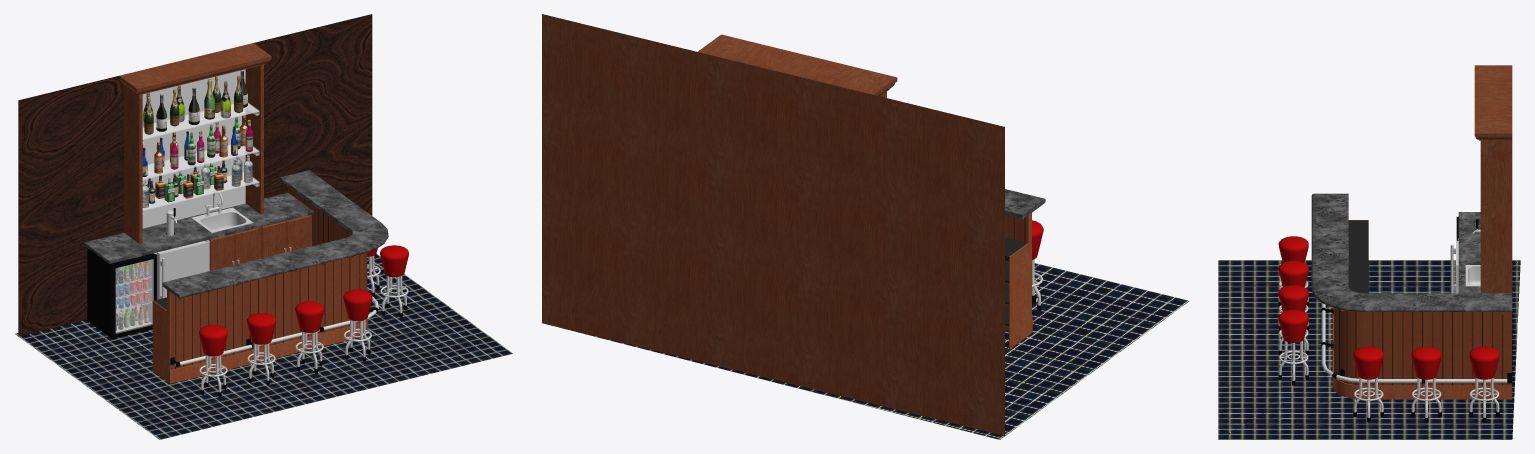
The model's file is bar_bar.glb.
The picture shows the model from 3 angles, left to right: view 1: azimuth 30°, elevation 25°; view 2: azimuth 150°, elevation 25°; view 3: azimuth 270°, elevation 25°; orthographic projection. The views are drawn at different scales.
Parts seen in each view (by area): view 1: Material3 (×7), Material2 (×19); view 2: Material2 (×3), Material3 (×3); view 3: Material3 (×4), Material2 (×19).
Boxes of the visible parts, box(x1,y1,x2,y2) form: Material3 (×7): box(15, 14, 512, 439); Material2 (×19): box(83, 69, 388, 383); Material2 (×3): box(542, 14, 1043, 435); Material3 (×3): box(555, 34, 1189, 439); Material3 (×4): box(1218, 65, 1520, 439); Material2 (×19): box(1278, 193, 1512, 385).
Bounding box in the file's own units: 168 × 107 × 119.
Materials: 41 (31 with a texture image).
